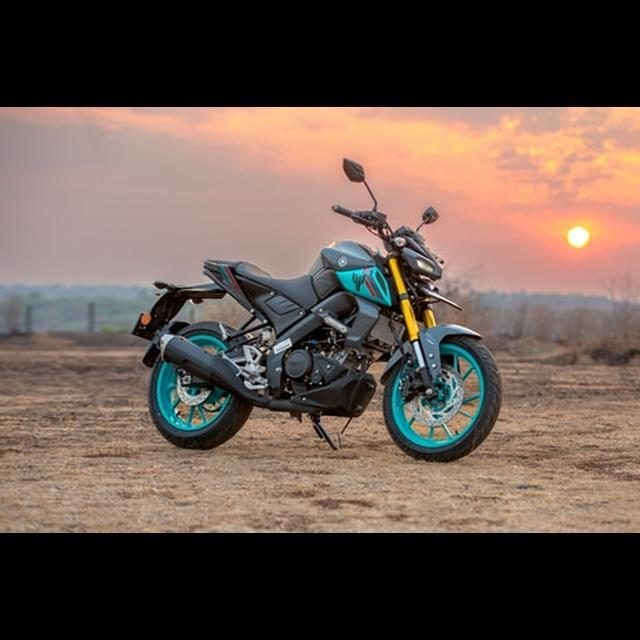motorcycle: (125, 153, 510, 469)
